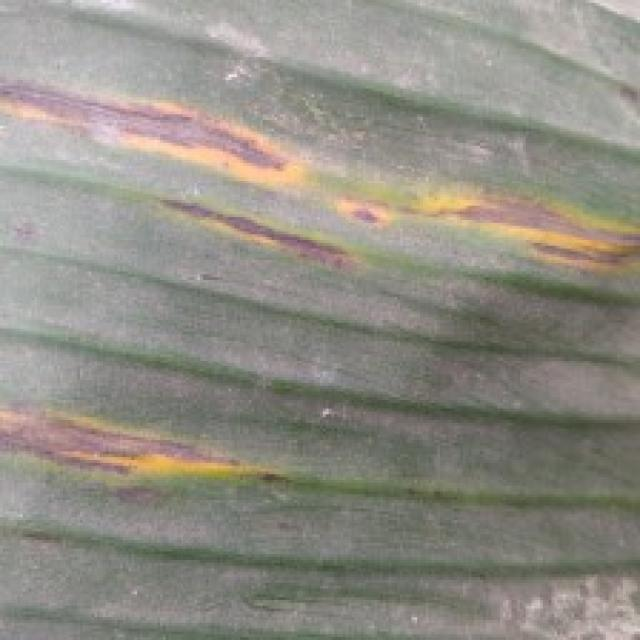Early_leaf_spot: (0, 68, 397, 286), (0, 369, 283, 520), (406, 152, 640, 290)
